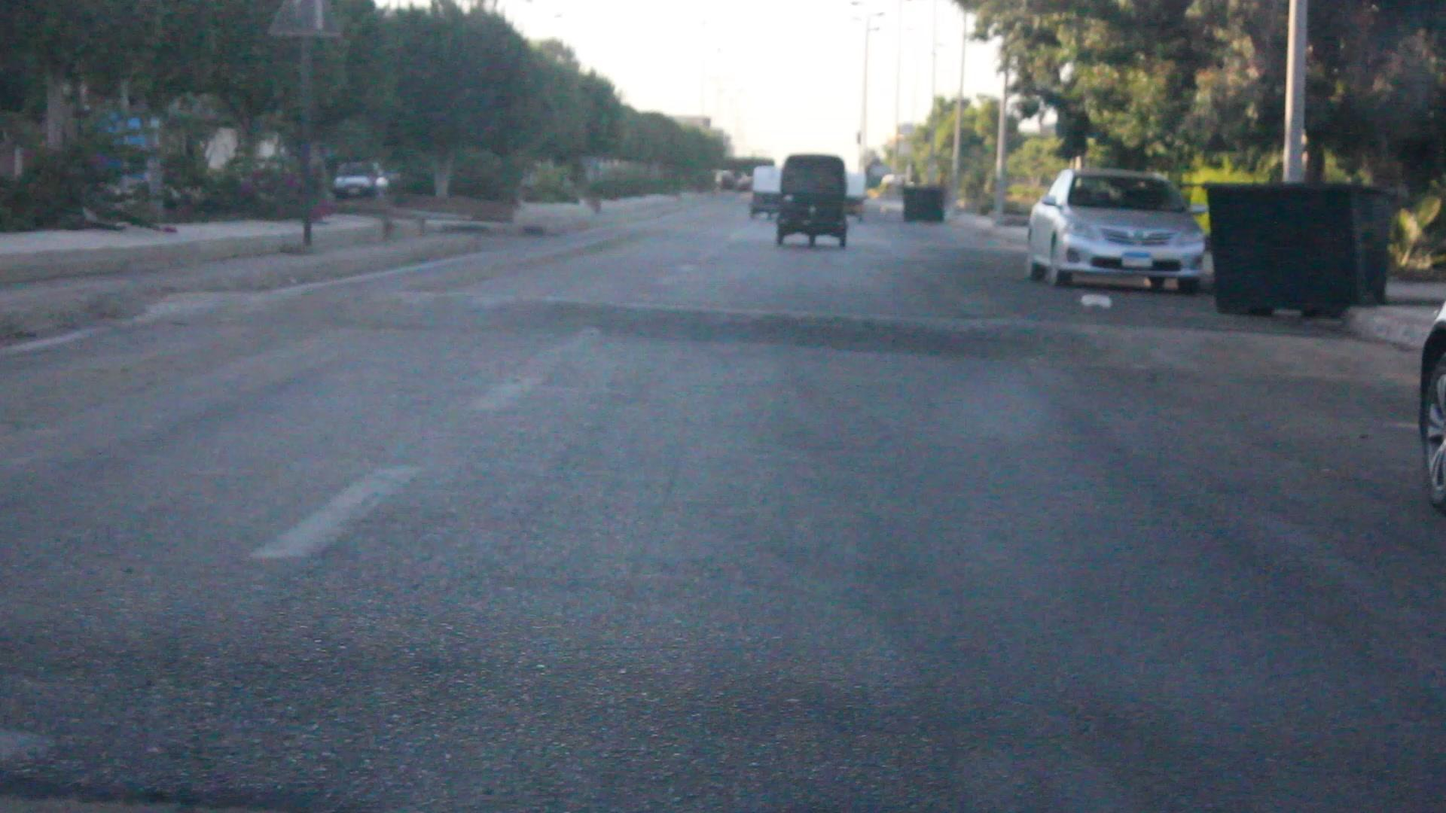Bump: (147, 284, 1406, 388)
